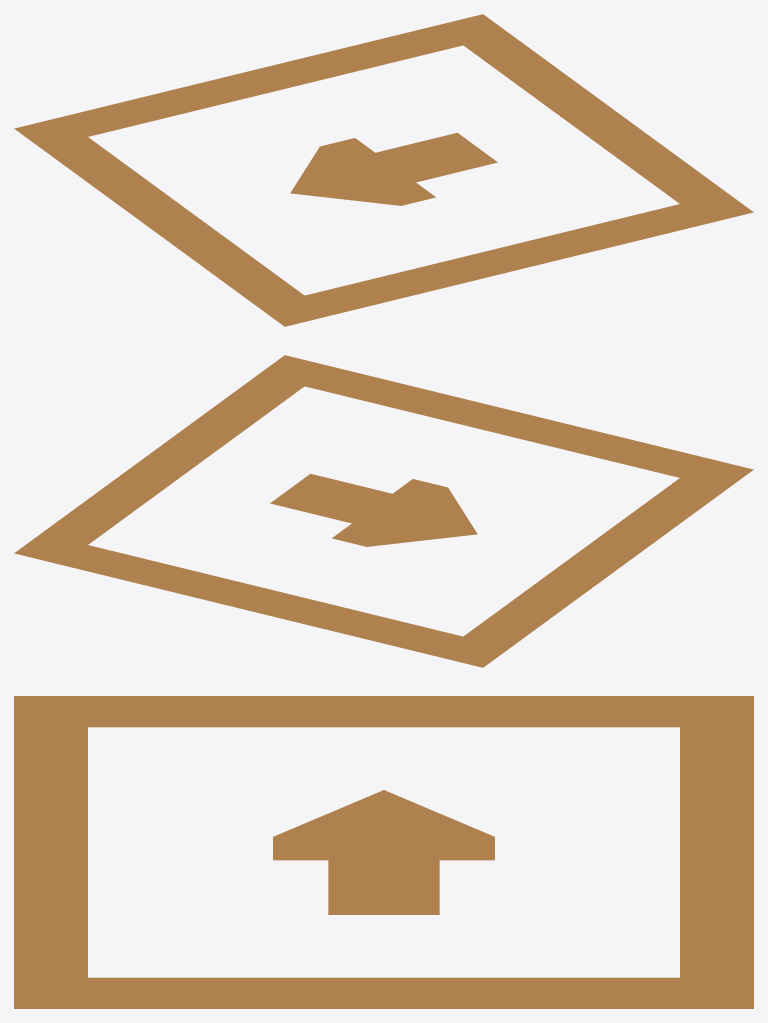
File: indicator-special-arrow.glb
3 views of the same model, one above another, from view 1: azimuth 30°, elevation 25°; view 2: azimuth 150°, elevation 25°; view 3: azimuth 270°, elevation 25° (orthographic). The views are drawn at different scales.
Parts seen in each view (by area): view 1: indicator-special-arrow; view 2: indicator-special-arrow; view 3: indicator-special-arrow.
Boxes of the visible parts, left/top/right/bottom form: indicator-special-arrow: left=14, top=14, right=753, bottom=326; indicator-special-arrow: left=14, top=355, right=753, bottom=667; indicator-special-arrow: left=14, top=696, right=753, bottom=1008.
Size of the model in its own units: 1 by 0 by 1.
